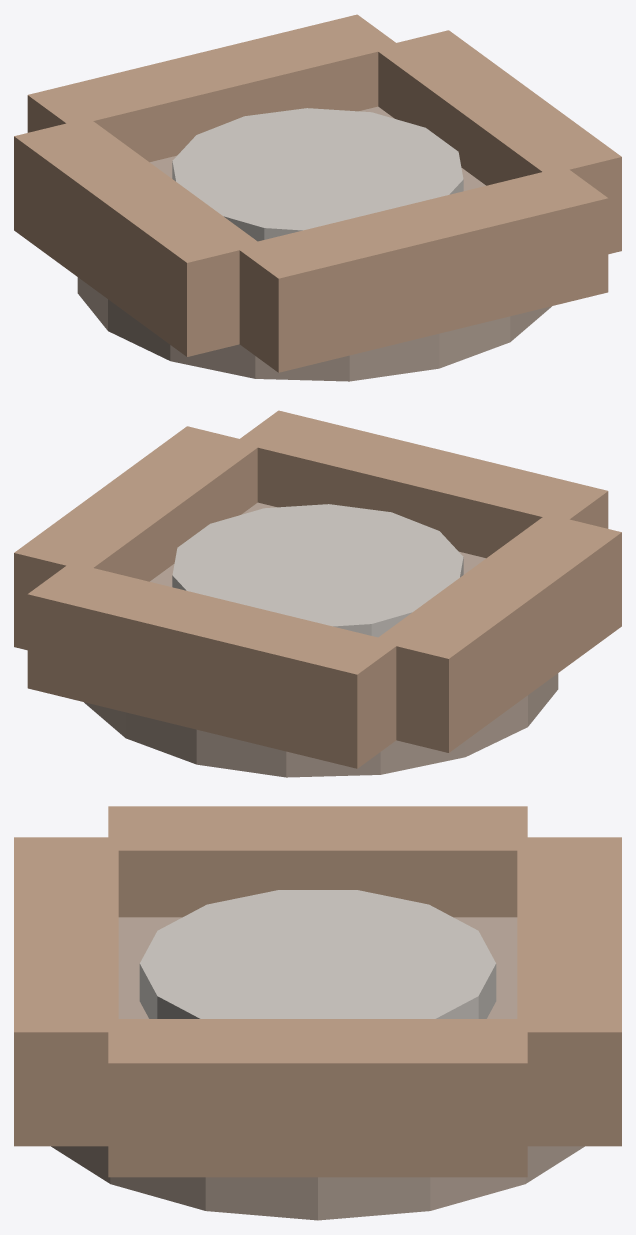
The model's file is pets_caminha2.glb.
3 views of the same model, one above another, from view 1: azimuth 30°, elevation 25°; view 2: azimuth 150°, elevation 25°; view 3: azimuth 270°, elevation 25° (orthographic). The views are drawn at different scales.
Visible parts, largest first — view 1: PETS_CAMINHA2_v01; view 2: PETS_CAMINHA2_v01; view 3: PETS_CAMINHA2_v01.
Boxes of the visible parts, x1,y1,x2,y2 form: PETS_CAMINHA2_v01: [14, 14, 621, 381]; PETS_CAMINHA2_v01: [14, 410, 621, 777]; PETS_CAMINHA2_v01: [14, 806, 621, 1220].
Bounding box in the file's own units: 0.58 × 0.17 × 0.58.
